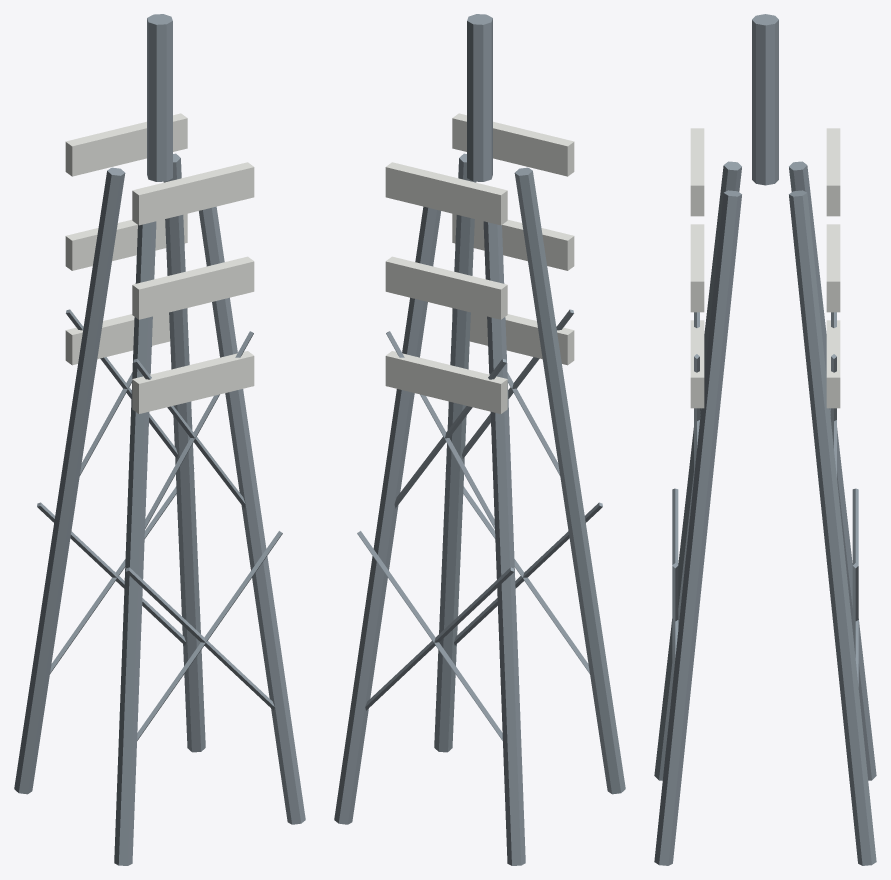
The model's file is source.glb.
3 views of the same model, side by side, from view 1: azimuth 30°, elevation 25°; view 2: azimuth 150°, elevation 25°; view 3: azimuth 270°, elevation 25° (orthographic).
Visible parts, largest first — view 1: worldgen; view 2: worldgen; view 3: worldgen.
Part boxes in pixels (<box>): worldgen: <box>14,14,305,865</box>; worldgen: <box>334,14,625,865</box>; worldgen: <box>654,14,876,865</box>.
Size of the model in its own units: 12.95 by 52.07 by 13.09.
